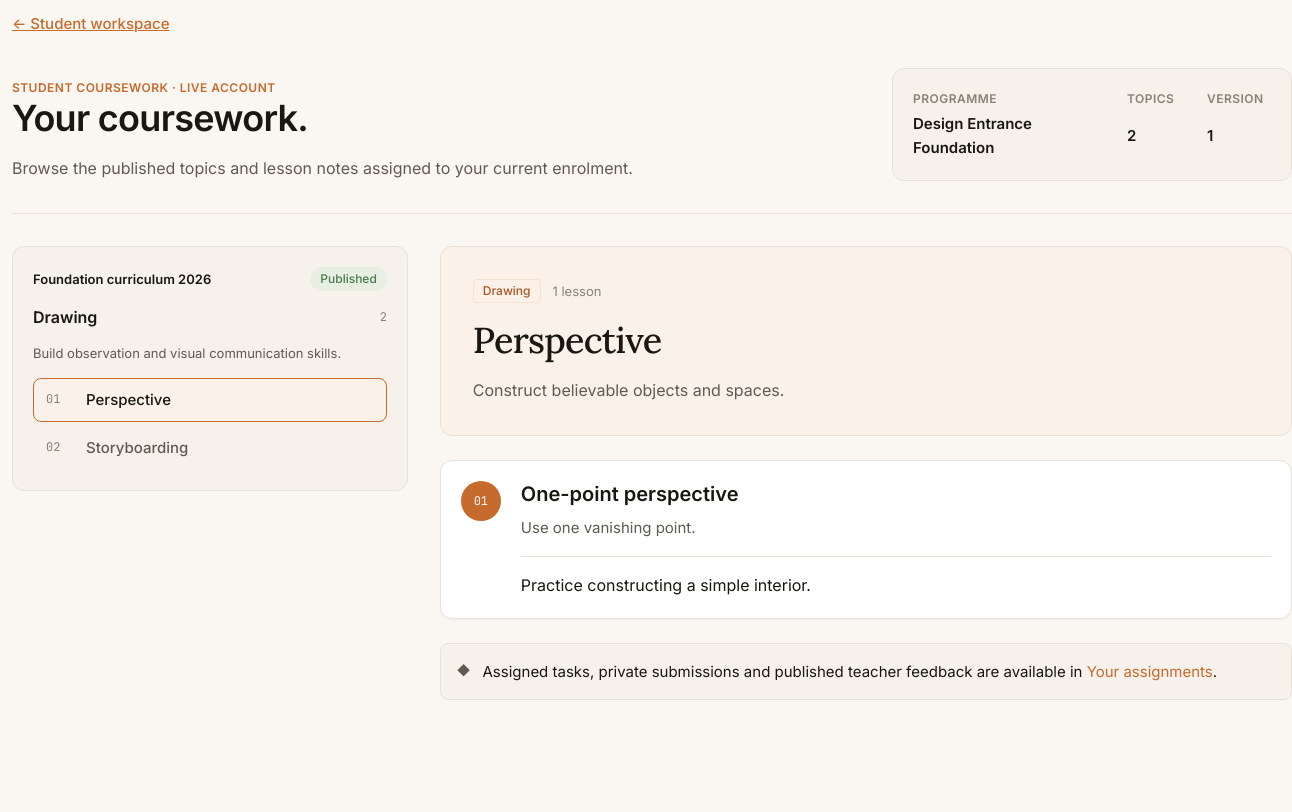
Test: StudentCourseworkPage › lets the student browse between topics without exposing an assignment flow
Expected: the heading "Perspective" is shown, top-left (473, 317), bottom-right (662, 363)
Click the button "02 Storyboarding" at [137, 447], box top-left (33, 426), bottom-right (387, 470)
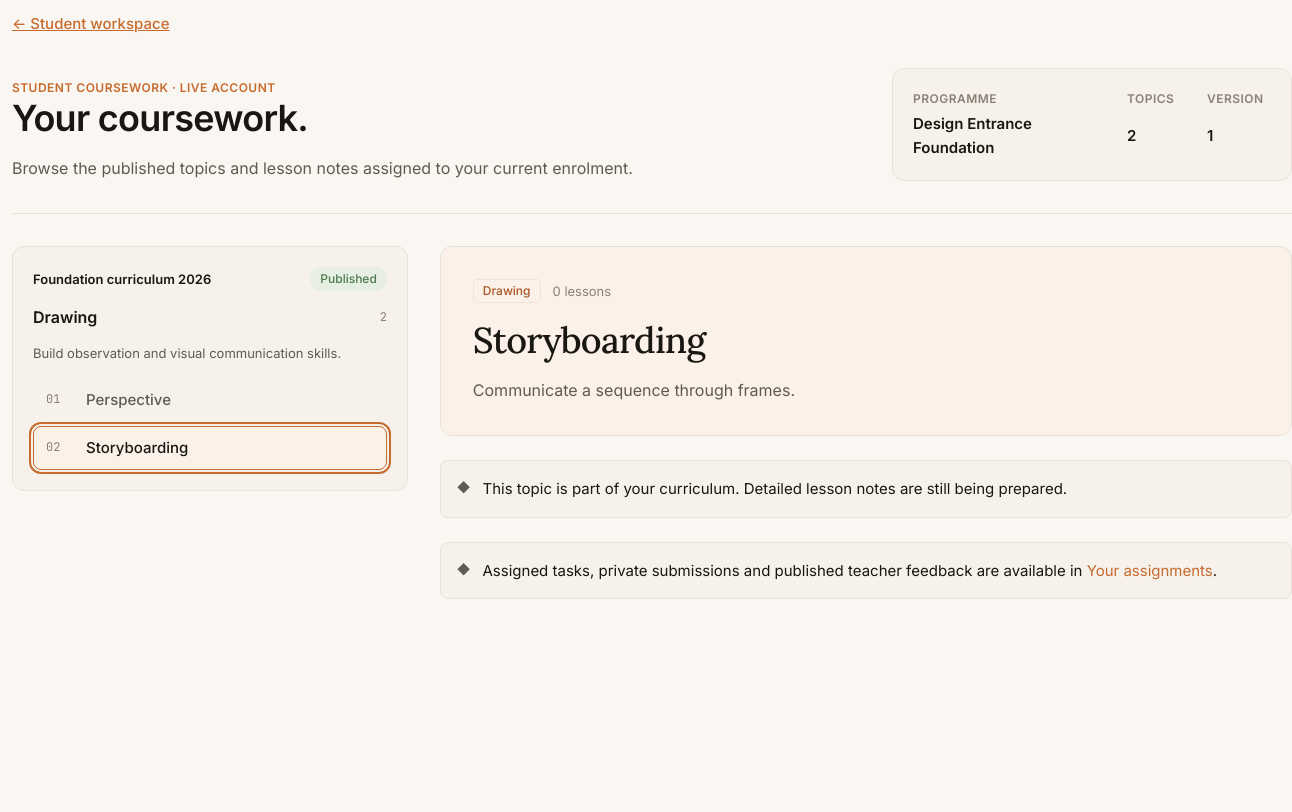
Now the heading "Storyboarding" is shown, box top-left (473, 317), bottom-right (706, 363)
Now the text "Detailed lesson notes are still being prepared" is shown, box top-left (482, 479), bottom-right (1067, 498)
